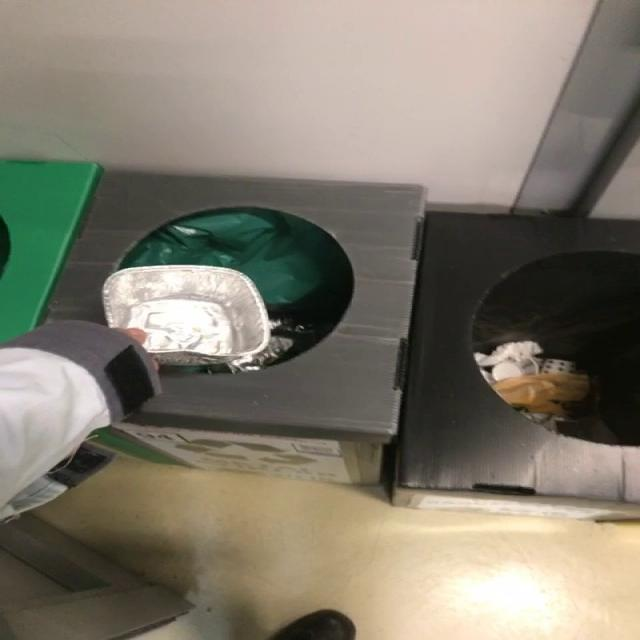Bin: (45, 172, 640, 520)
Metal: (101, 265, 271, 366)
